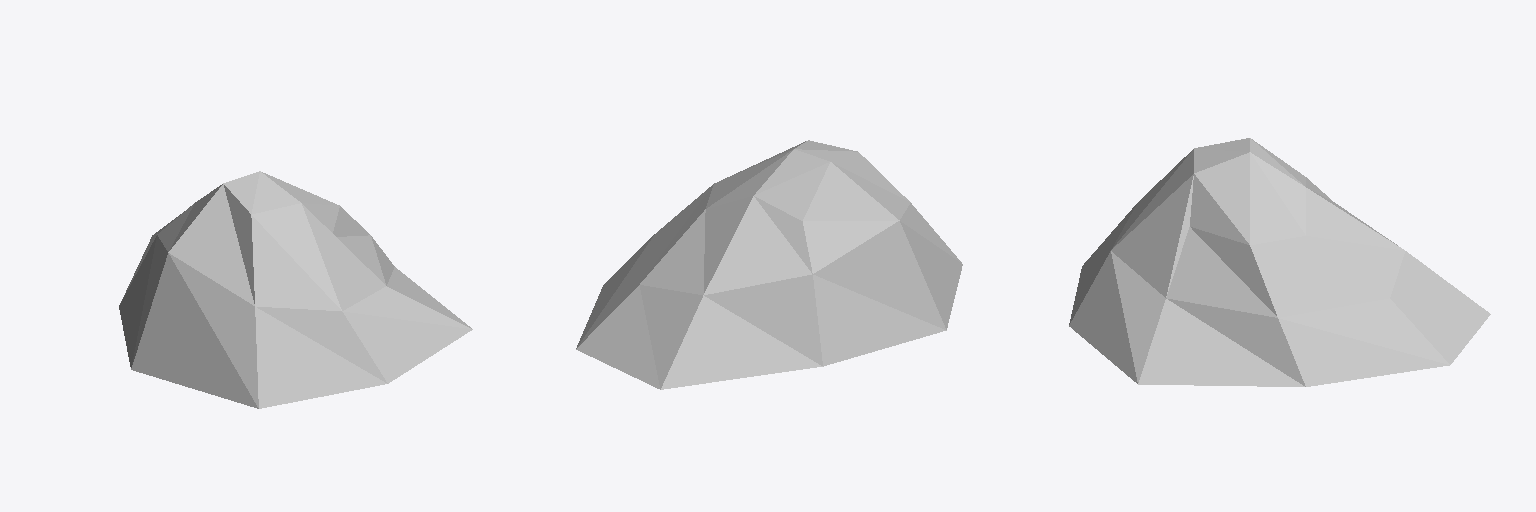
Rendered from Rock_2.obj.
3 views of the same model, side by side, from view 1: azimuth 30°, elevation 25°; view 2: azimuth 150°, elevation 25°; view 3: azimuth 270°, elevation 25° (orthographic).
Visible parts, largest first — view 1: Cube; view 2: Cube; view 3: Cube.
Part boxes in pixels (left/top/right/bottom): Cube: left=119, top=171, right=472, bottom=408; Cube: left=576, top=140, right=962, bottom=389; Cube: left=1069, top=138, right=1490, bottom=386.
Size of the model in its own units: 6.26 by 3.88 by 7.54.